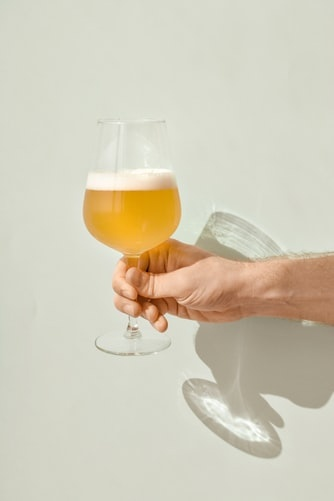whiskey: (87, 115, 183, 352)
